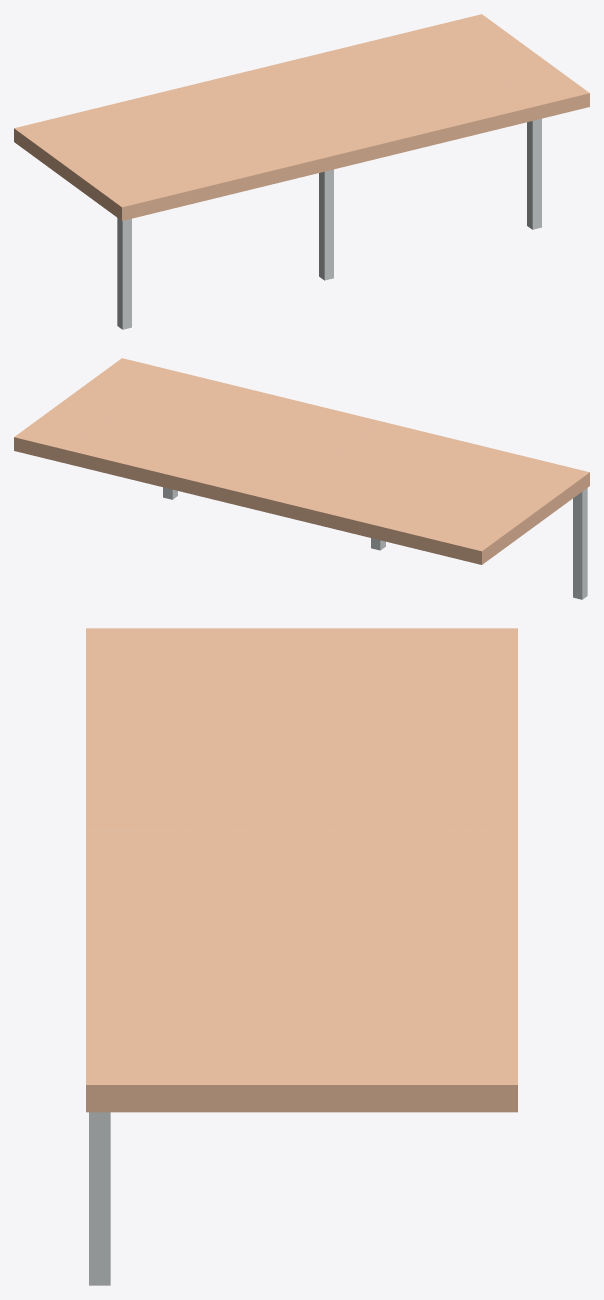
The model's file is desk-row-d13.glb.
The picture shows the model from 3 angles, top to bottom: view 1: azimuth 30°, elevation 25°; view 2: azimuth 150°, elevation 25°; view 3: azimuth 270°, elevation 25°; orthographic projection. The views are drawn at different scales.
Parts seen in each view (by area): view 1: desktop, shared-corner-leg (×3); view 2: desktop, shared-corner-leg; view 3: desktop, shared-corner-leg.
Boxes of the visible parts, x1,y1,x2,y2 form: desktop: (14, 14, 589, 220); shared-corner-leg (×3): (117, 118, 541, 329); desktop: (14, 358, 589, 564); shared-corner-leg: (573, 488, 587, 599); desktop: (86, 628, 517, 1112); shared-corner-leg: (89, 1112, 110, 1285).
Bounding box in the file's own units: 5 × 1.26 × 2.
Materials: 1 (1 with a texture image).
